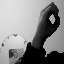o: (36, 1, 61, 38)
